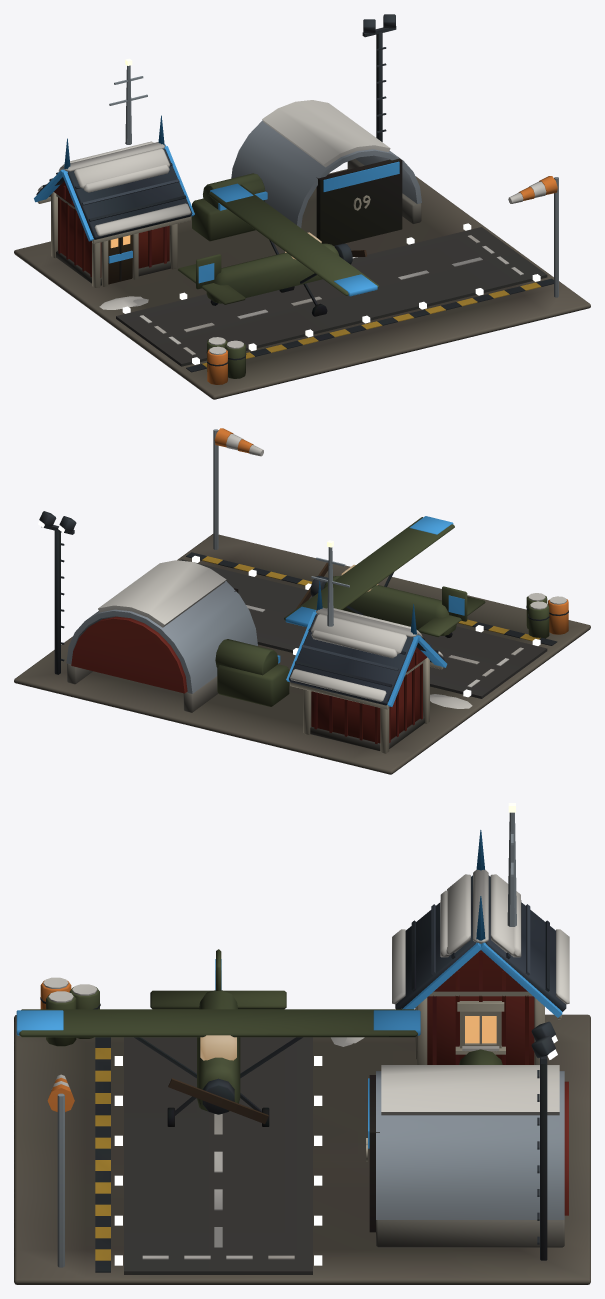
Rendered from airstrip.glb.
The picture shows the model from 3 angles, top to bottom: view 1: azimuth 30°, elevation 25°; view 2: azimuth 150°, elevation 25°; view 3: azimuth 270°, elevation 25°; orthographic projection. The views are drawn at different scales.
Parts seen in each view (by area): view 1: airstrip_root_matte, airstrip_root_metal, airstrip_root_trim, airstrip_root_lamp; view 2: airstrip_root_matte, airstrip_root_metal, airstrip_root_trim, airstrip_root_lamp; view 3: airstrip_root_matte, airstrip_root_metal, airstrip_root_trim, airstrip_root_glass, airstrip_root_lamp.
Boxes of the visible parts, x1,y1,x2,y2 form: airstrip_root_matte: [14, 100, 590, 399]; airstrip_root_metal: [109, 14, 558, 305]; airstrip_root_trim: [34, 115, 399, 296]; airstrip_root_lamp: [122, 58, 540, 364]; airstrip_root_matte: [14, 428, 590, 774]; airstrip_root_metal: [39, 429, 393, 693]; airstrip_root_trim: [277, 516, 464, 706]; airstrip_root_lamp: [38, 520, 540, 697]; airstrip_root_matte: [14, 869, 590, 1284]; airstrip_root_metal: [57, 812, 564, 1267]; airstrip_root_trim: [16, 830, 562, 1148]; airstrip_root_glass: [200, 1016, 496, 1060]; airstrip_root_lamp: [114, 803, 557, 1265].
Bounding box in the file's own units: 12 × 5.84 × 11.
